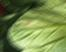Tomato mold leaf: (5, 0, 66, 52)
